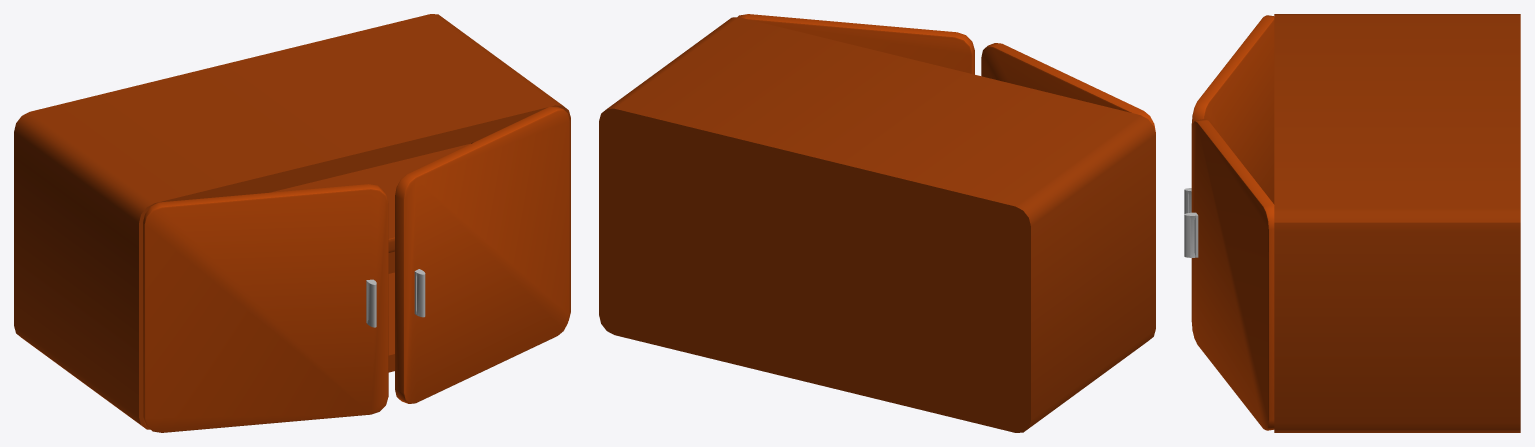
Rendered from LongCupBoardwall.fbx.
The picture shows the model from 3 angles, left to right: view 1: azimuth 30°, elevation 25°; view 2: azimuth 150°, elevation 25°; view 3: azimuth 270°, elevation 25°; orthographic projection.
Parts seen in each view (by area): view 1: longcupboard2; view 2: longcupboard2; view 3: longcupboard2.
Part boxes in pixels (<box>): longcupboard2: <box>14,14,570,432</box>; longcupboard2: <box>599,14,1155,432</box>; longcupboard2: <box>1184,14,1520,432</box>.
Bounding box in the file's own units: 115 × 57.71 × 78.68.
Materials: 1 (1 with a texture image).
